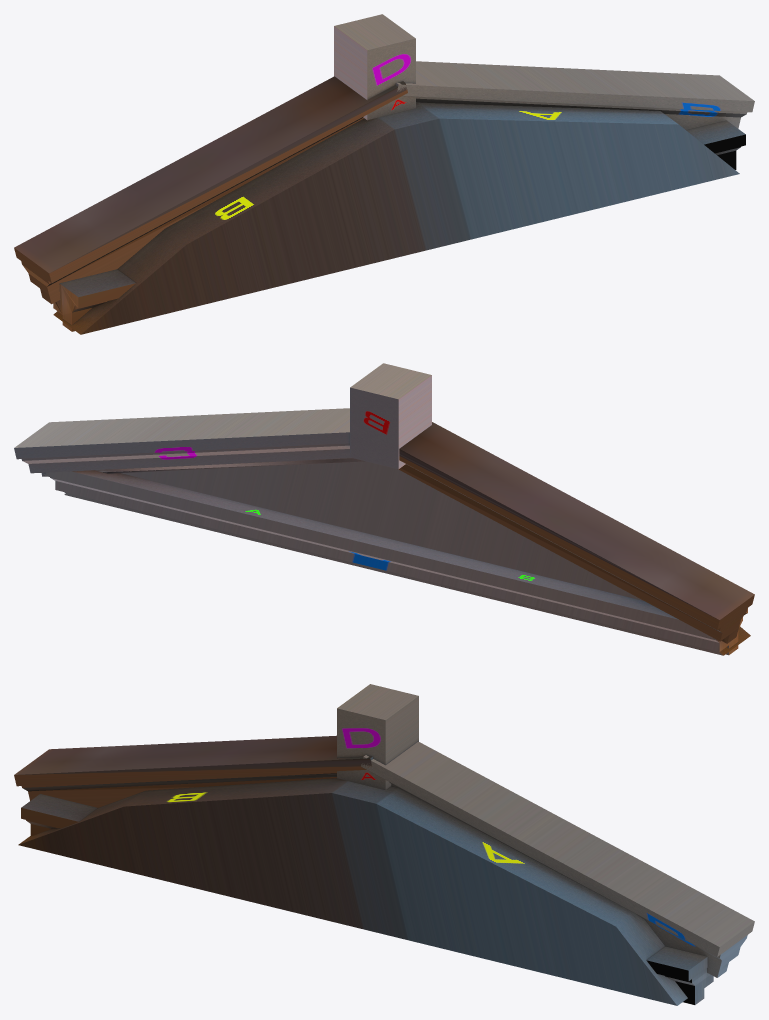
The model's file is roof.obj.
3 renders of one model, top to bottom at view 1: azimuth 30°, elevation 25°; view 2: azimuth 150°, elevation 25°; view 3: azimuth 330°, elevation 25°, orthographic.
Parts seen in each view (by area): view 1: Box008; view 2: Box008; view 3: Box008.
Part boxes in pixels (box(x1,y1,x2,y2)): Box008: box(14, 14, 754, 334); Box008: box(14, 363, 754, 655); Box008: box(14, 684, 754, 1005).
Bounding box in the file's own units: 23.51 × 6.5 × 2.86.
1 material, 1 textured.
